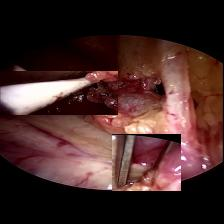Grasper: (112, 133, 181, 190)
Hook: (0, 70, 118, 114)
